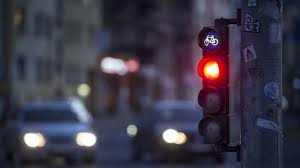red: (198, 56, 228, 146)
